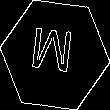M_S: (31, 27, 79, 83)
